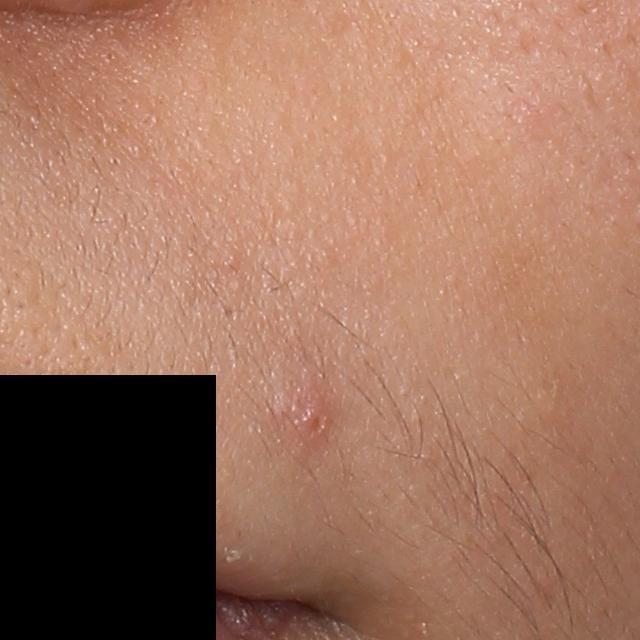papule: (295, 387, 335, 454)
